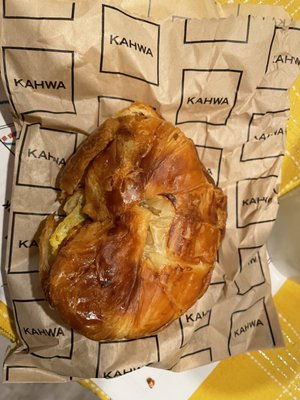soup: (38, 104, 228, 342)
